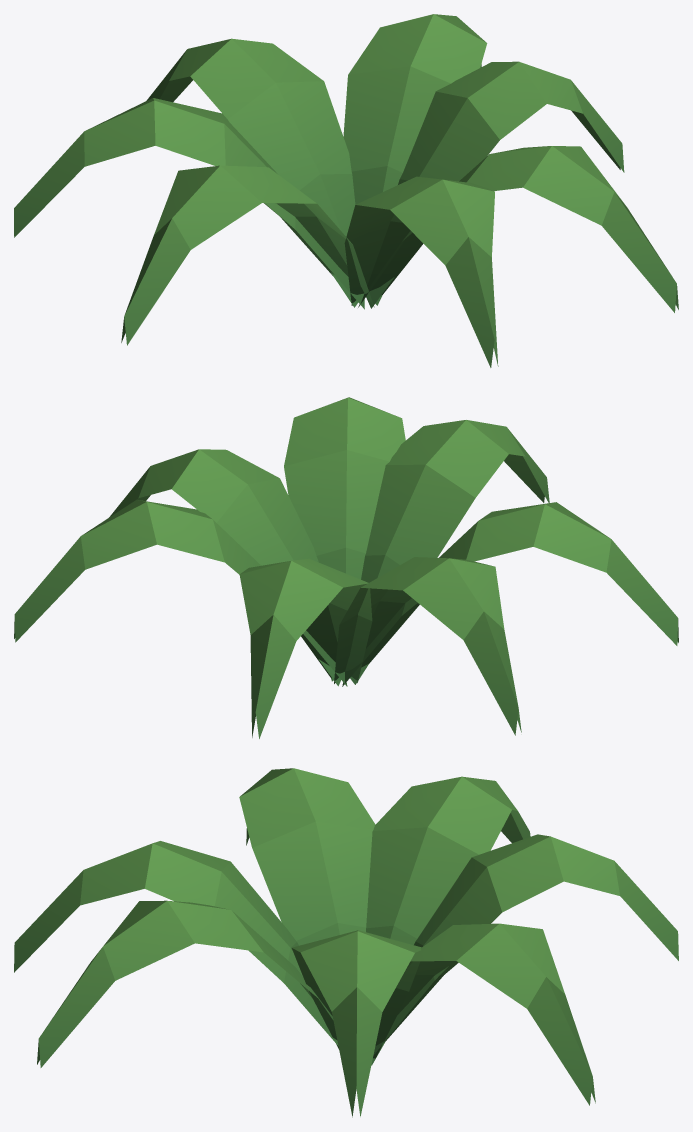
File: fern.glb
3 views of the same model, one above another, from view 1: azimuth 30°, elevation 25°; view 2: azimuth 150°, elevation 25°; view 3: azimuth 270°, elevation 25° (orthographic). The views are drawn at different scales.
Visible parts, largest first — view 1: fern; view 2: fern; view 3: fern.
Boxes of the visible parts, x1,y1,x2,y2 form: fern: (14,14,678,367); fern: (14,397,678,738); fern: (14,768,678,1117).
Size of the model in its own units: 1.63 by 0.5797 by 1.68.
